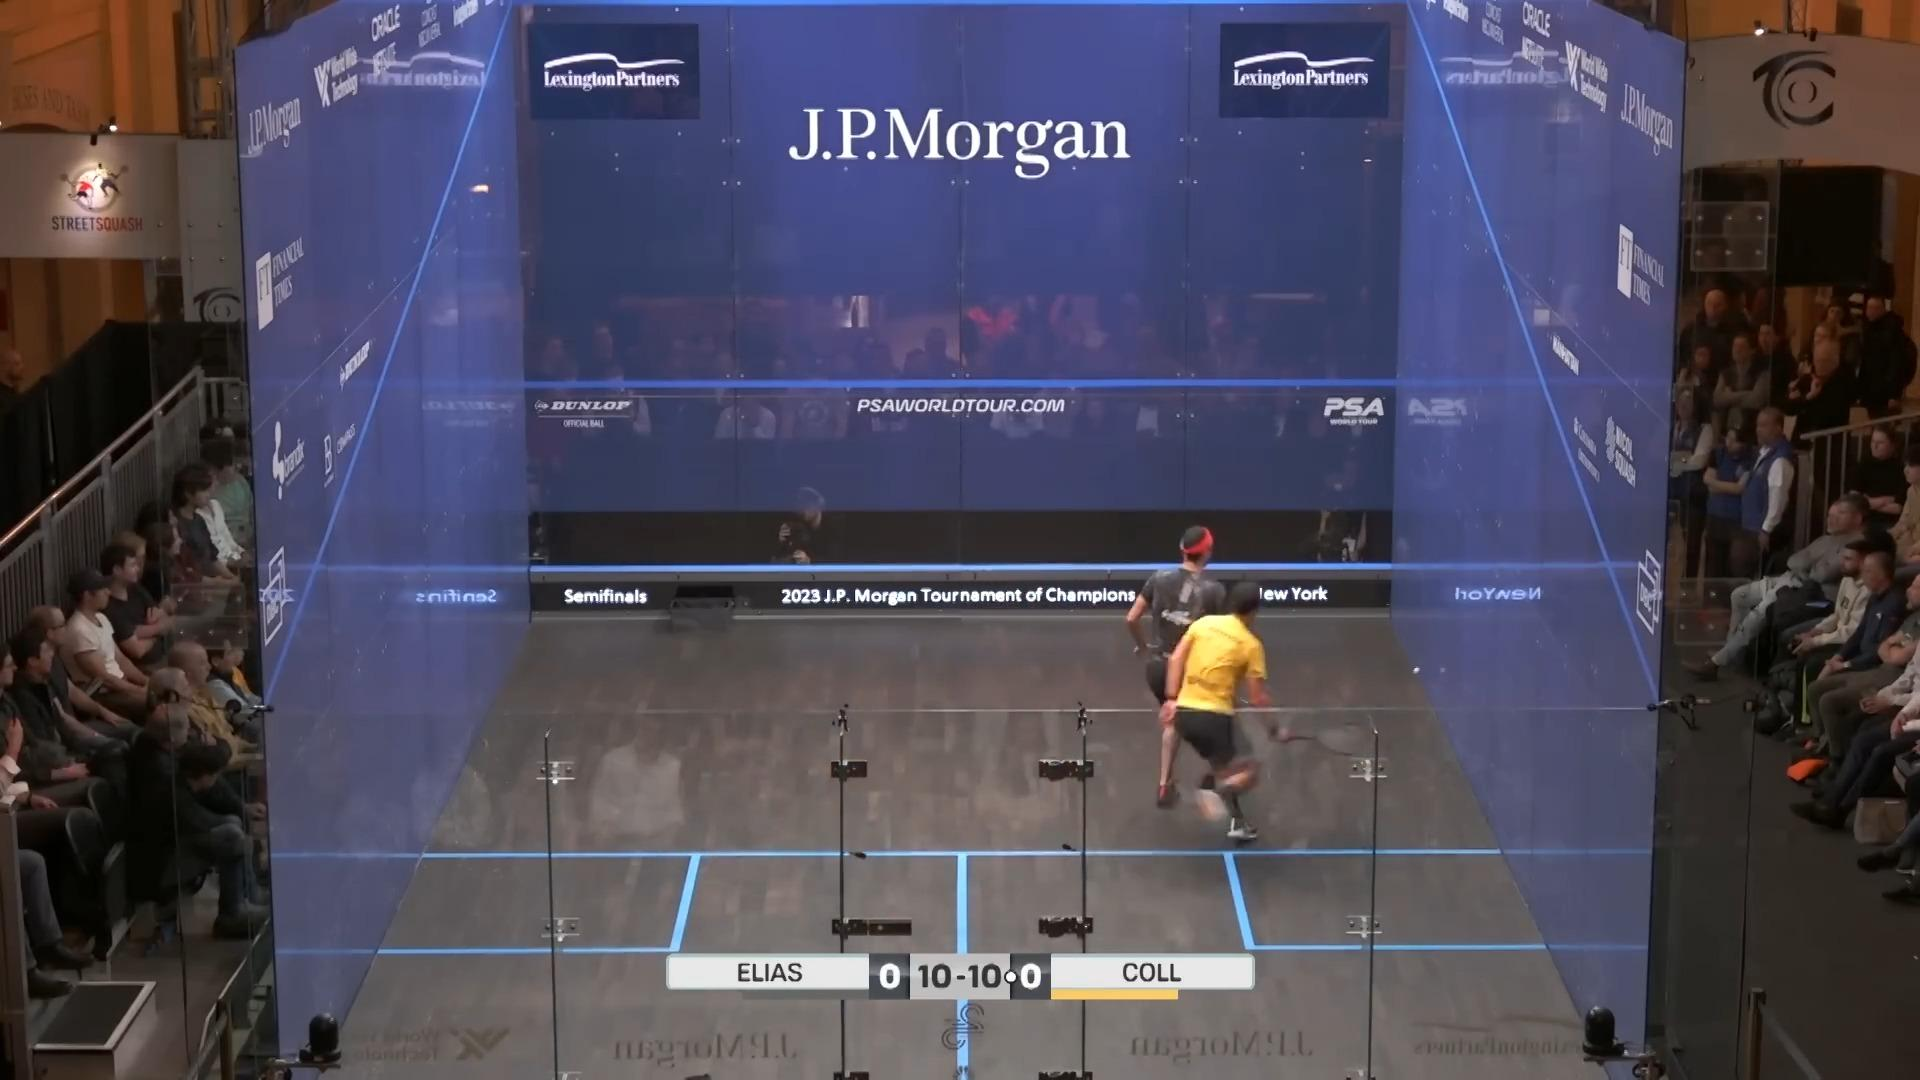Racket: (1287, 703, 1378, 761)
